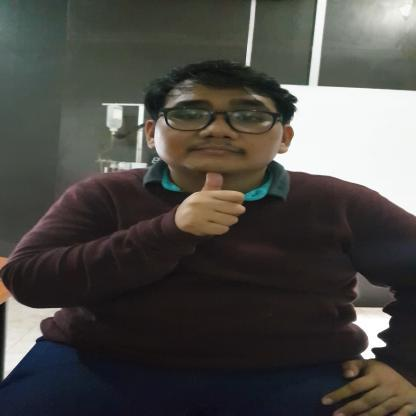Siapa: (170, 162, 254, 234)
